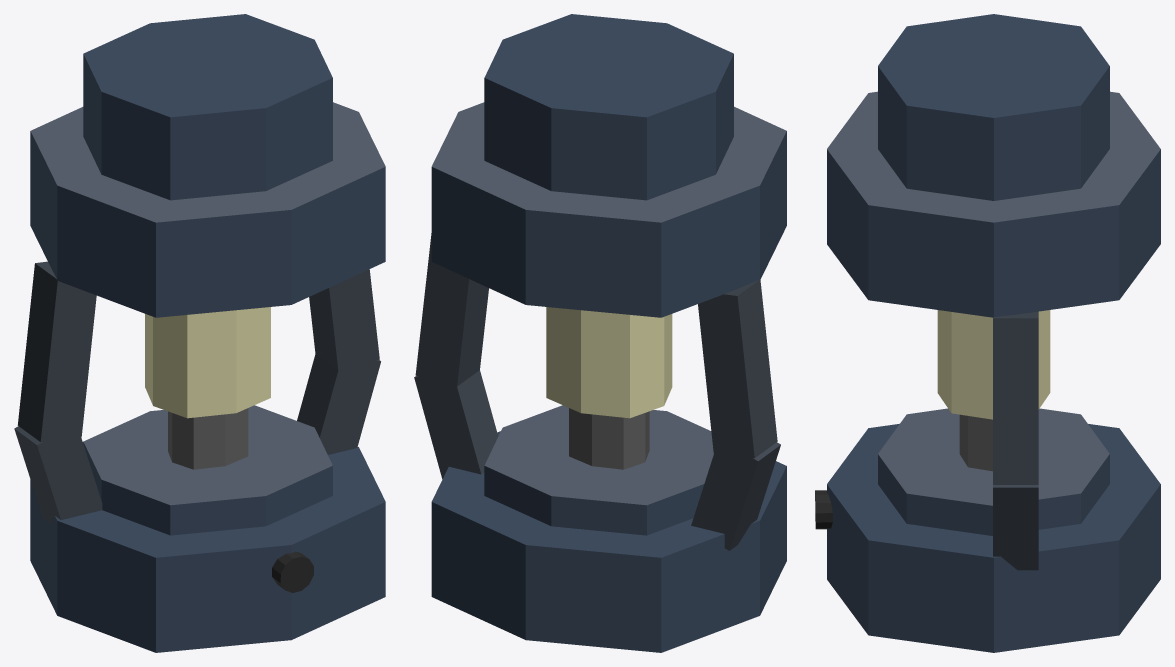
The model's file is Lantern.gltf.
3 renders of one model, left to right at view 1: azimuth 30°, elevation 25°; view 2: azimuth 150°, elevation 25°; view 3: azimuth 270°, elevation 25°, orthographic.
Visible parts, largest first — view 1: cuboid (×8), bulb, socket, knob; view 2: cuboid (×8), bulb, socket; view 3: cuboid (×6), bulb, socket, knob.
Part boxes in pixels (x1,y1,x2,y2): cuboid (×8): [14, 14, 385, 652]; bulb: [145, 307, 270, 418]; socket: [168, 408, 248, 469]; knob: [272, 551, 313, 592]; cuboid (×8): [414, 14, 786, 652]; bulb: [546, 307, 672, 418]; socket: [569, 408, 649, 469]; cuboid (×6): [827, 14, 1160, 652]; bulb: [937, 310, 1050, 419]; socket: [959, 414, 992, 471]; knob: [815, 490, 832, 529].
Size of the model in its own units: 1.3 by 1.85 by 1.13.
Materials: 3 (3 with a texture image).
